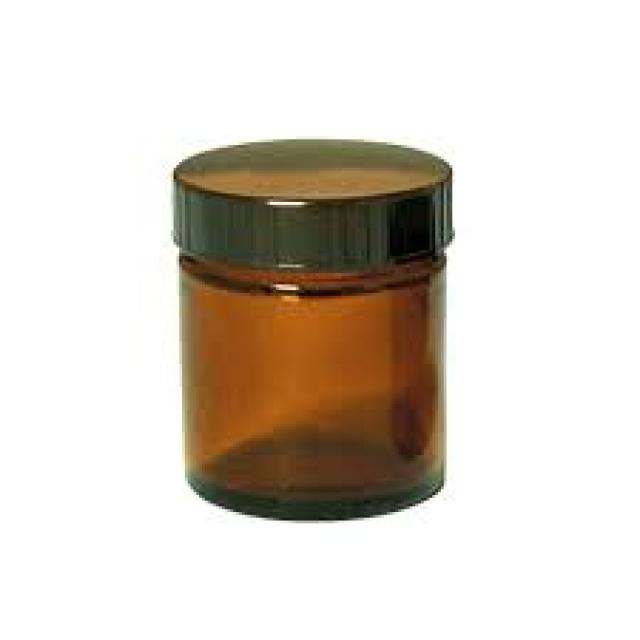glass: (179, 256, 441, 515)
